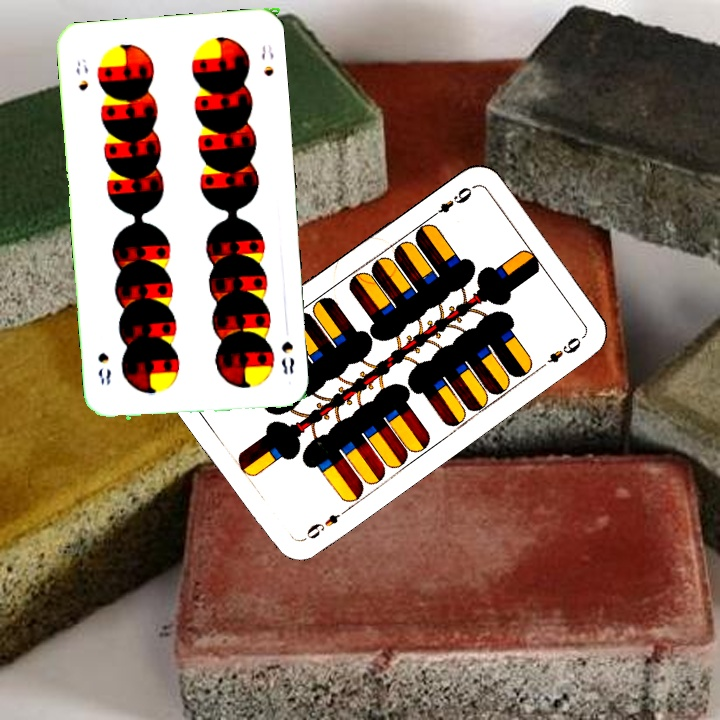E9: (299, 504, 351, 544), (425, 182, 476, 222)
S8: (277, 337, 297, 377), (72, 55, 91, 93)
